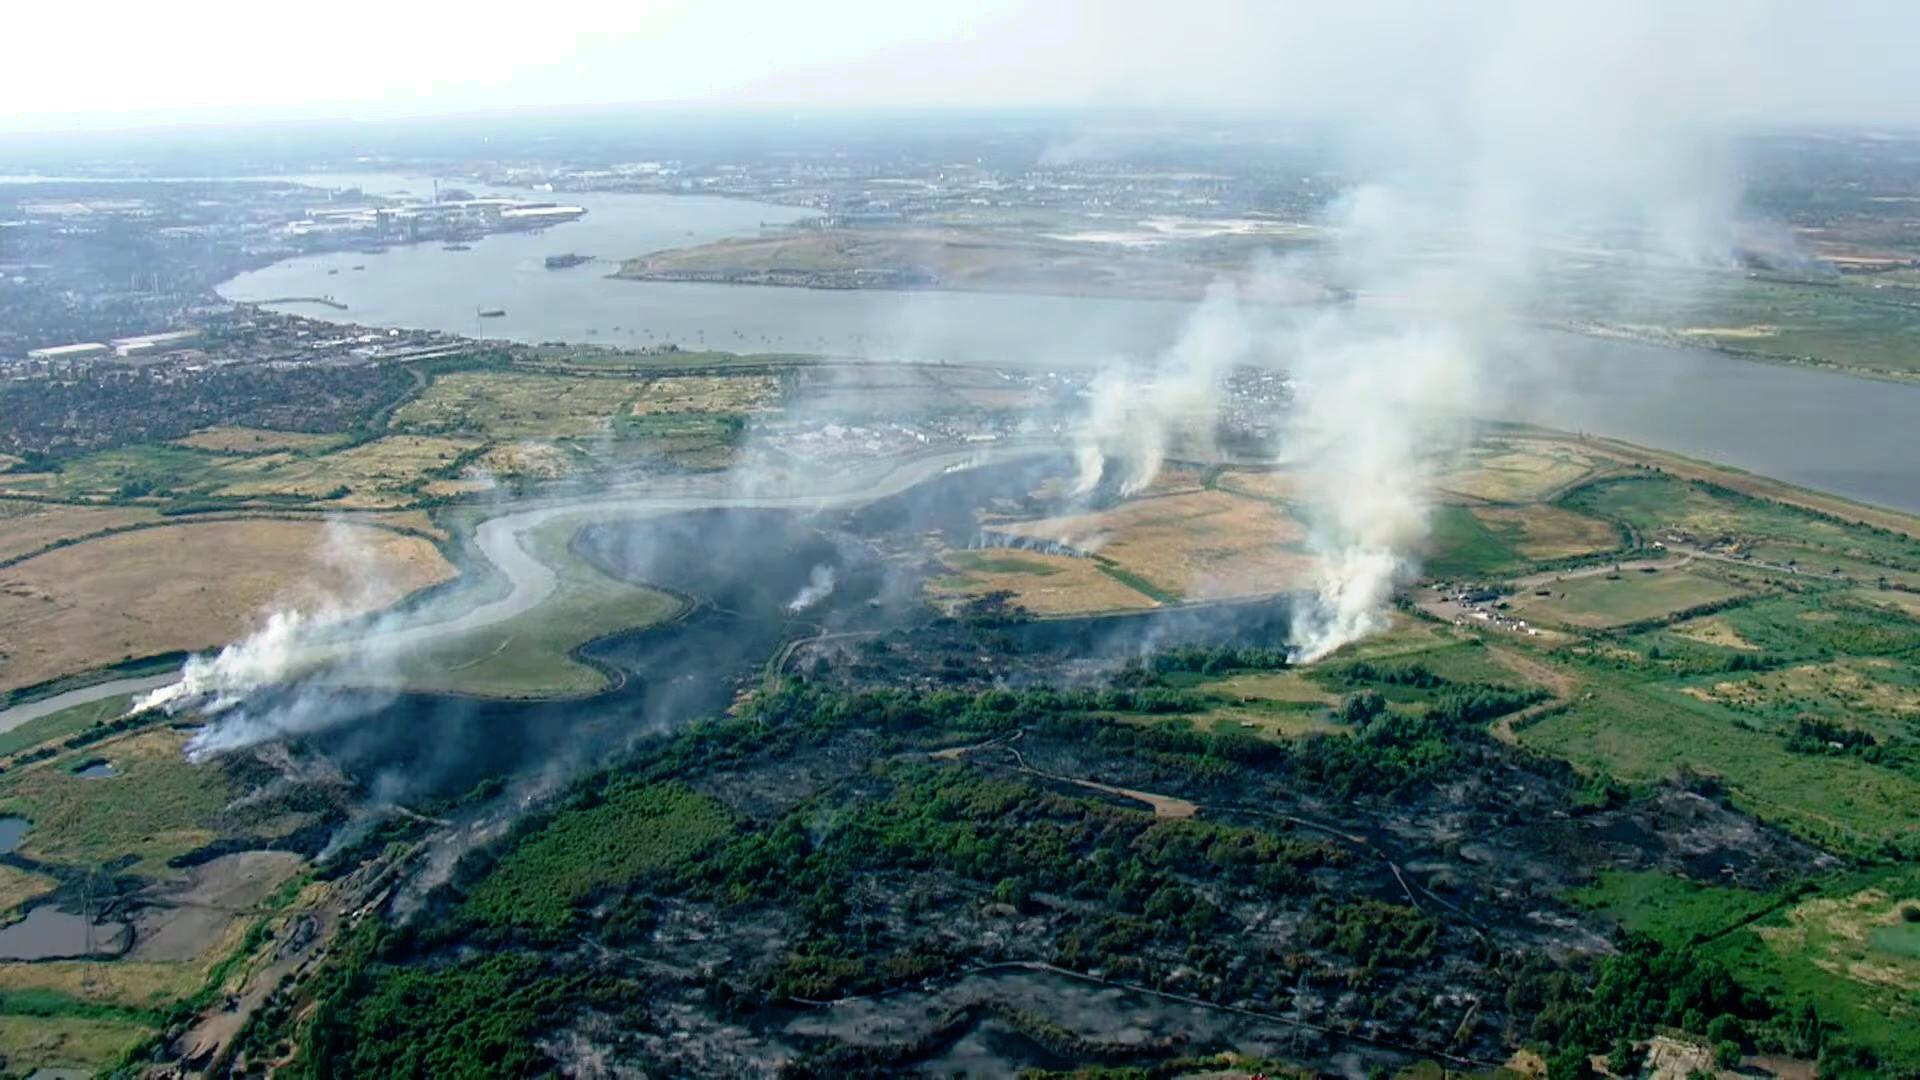smoke: (1321, 328, 1427, 615), (200, 612, 322, 705)
